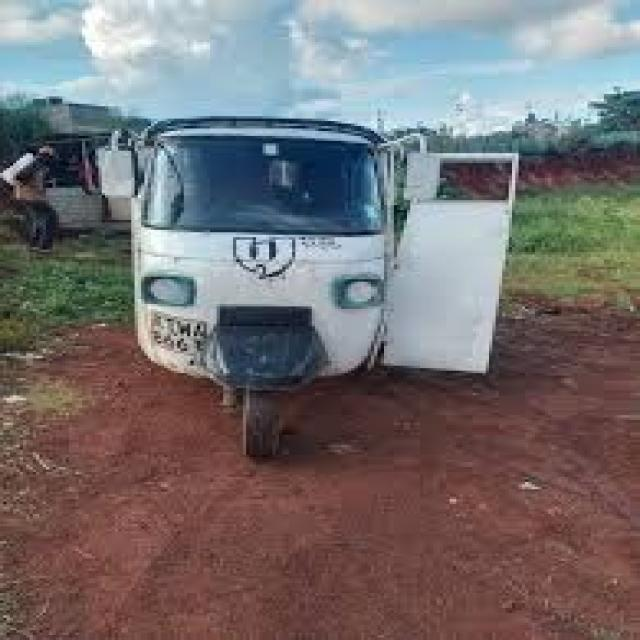tuktuk: (44, 72, 580, 492)
